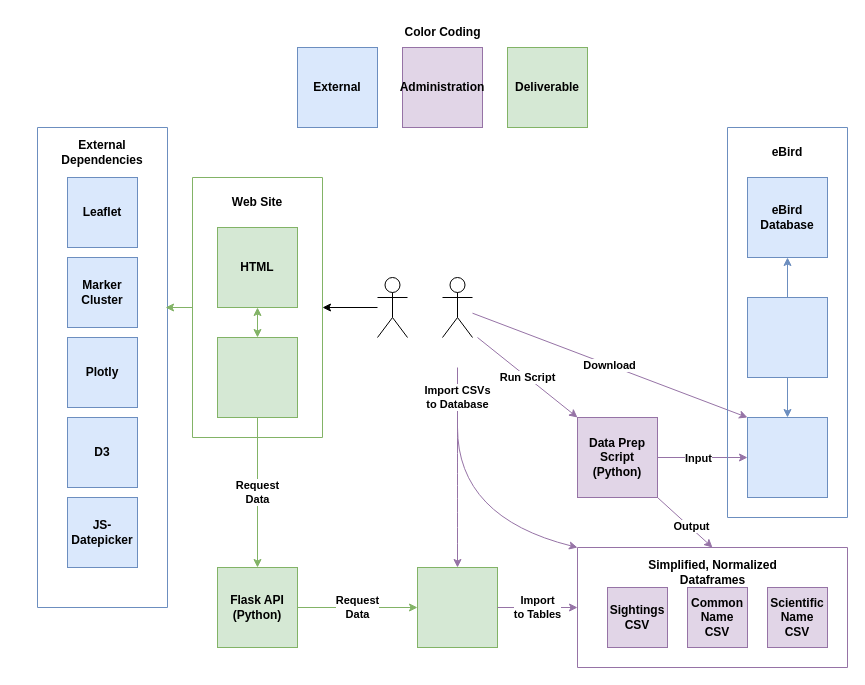
The diagram is 865 pixels wide and 685 high, and some of its shapes have lost their labels. Each missing label, with the centre of its shape:
"Admin" belongs at (x=457, y=307).
"eBird Site" belongs at (x=787, y=337).
"eBird Snapshot CSV" belongs at (x=787, y=457).
"JavaScript" belongs at (x=257, y=377).
"SQL Database" belongs at (x=457, y=607).
"User" belongs at (x=392, y=307).
